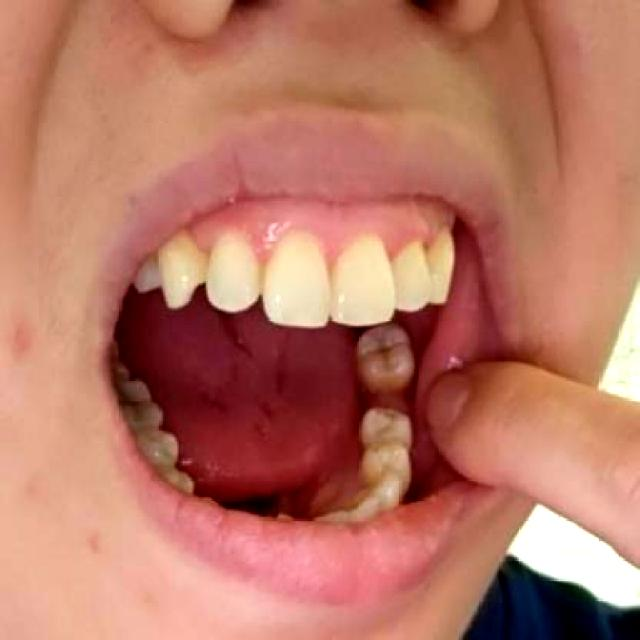Plaque: (371, 332, 410, 370)
